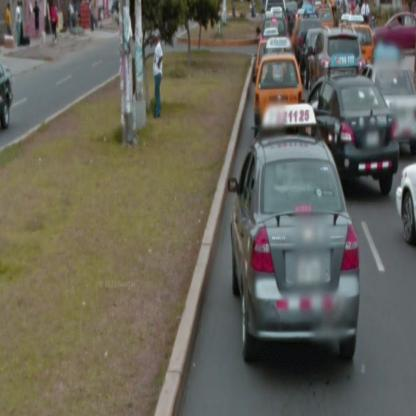Peaton: (153, 29, 164, 121)
Pista: (3, 18, 198, 140)
Vehiculo: (227, 105, 361, 364)
